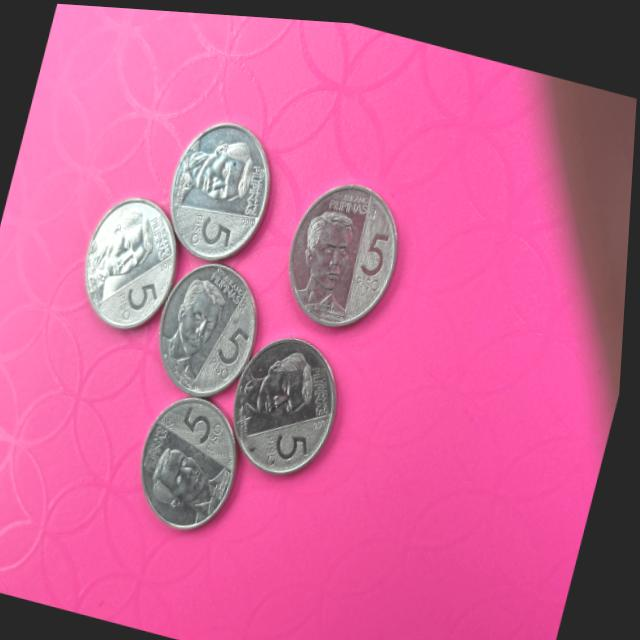5_New_Front: (194, 306, 264, 399), (345, 213, 403, 304), (253, 405, 320, 466), (168, 400, 235, 460), (109, 270, 168, 332), (178, 200, 240, 253)
